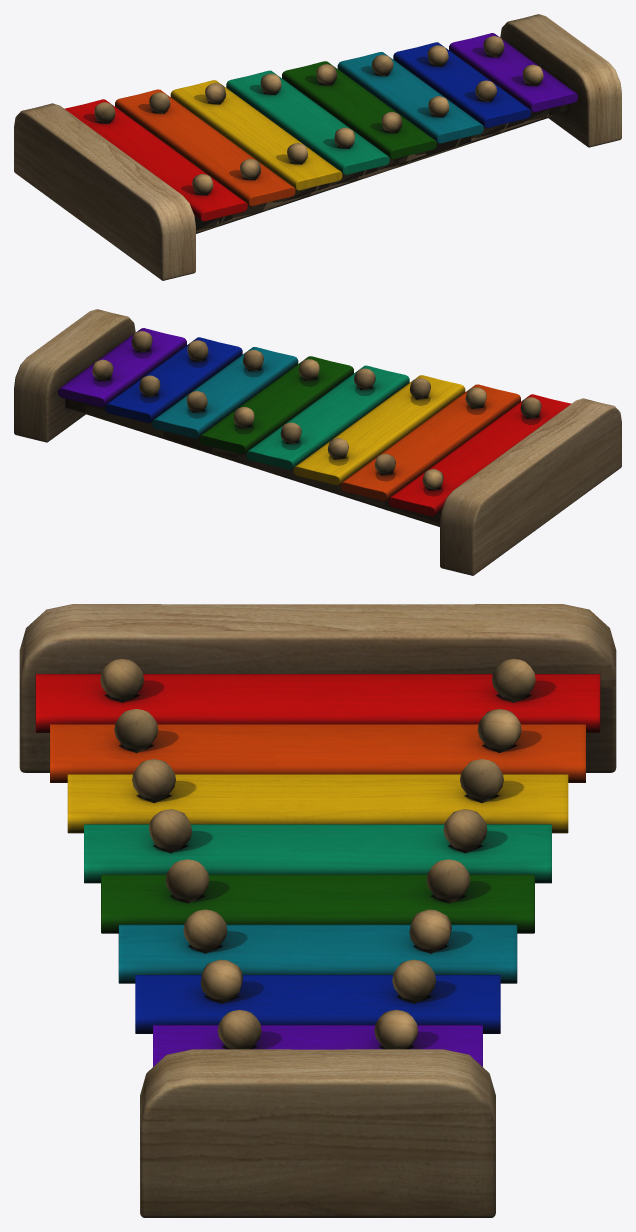
Rendered from xylophone.fbx.
3 renders of one model, top to bottom at view 1: azimuth 30°, elevation 25°; view 2: azimuth 150°, elevation 25°; view 3: azimuth 270°, elevation 25°, orthographic. The views are drawn at different scales.
Parts seen in each view (by area): view 1: Xylophone; view 2: Xylophone; view 3: Xylophone.
Boxes of the visible parts, bbox=[...] form: Xylophone: bbox=[14, 14, 621, 280]; Xylophone: bbox=[14, 309, 621, 575]; Xylophone: bbox=[19, 604, 616, 1217].
Size of the model in its own units: 42.55 by 5.95 by 22.4.
Materials: 1 (1 with a texture image).
